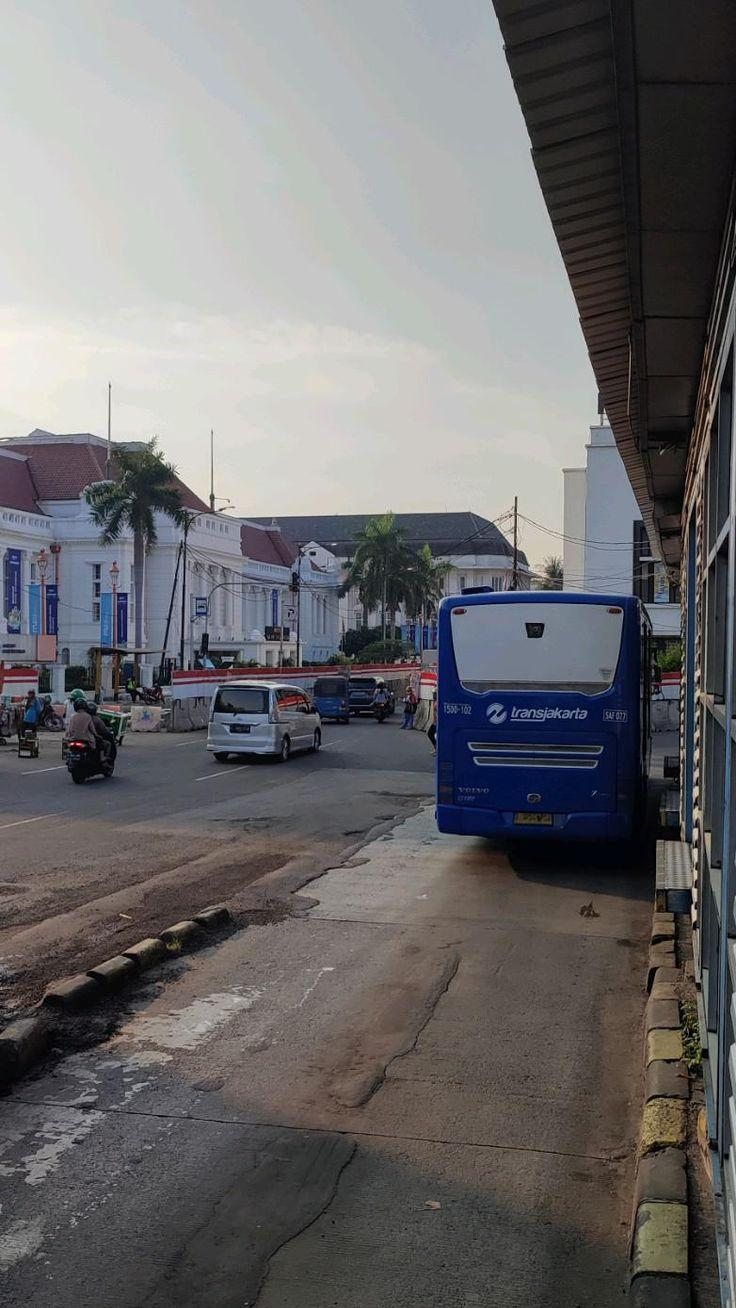mobil: (205, 682, 311, 758), (306, 671, 351, 721), (339, 673, 385, 709)
motor: (60, 729, 117, 784), (16, 720, 39, 758), (371, 697, 388, 722)
transjakarta: (432, 584, 651, 850)
